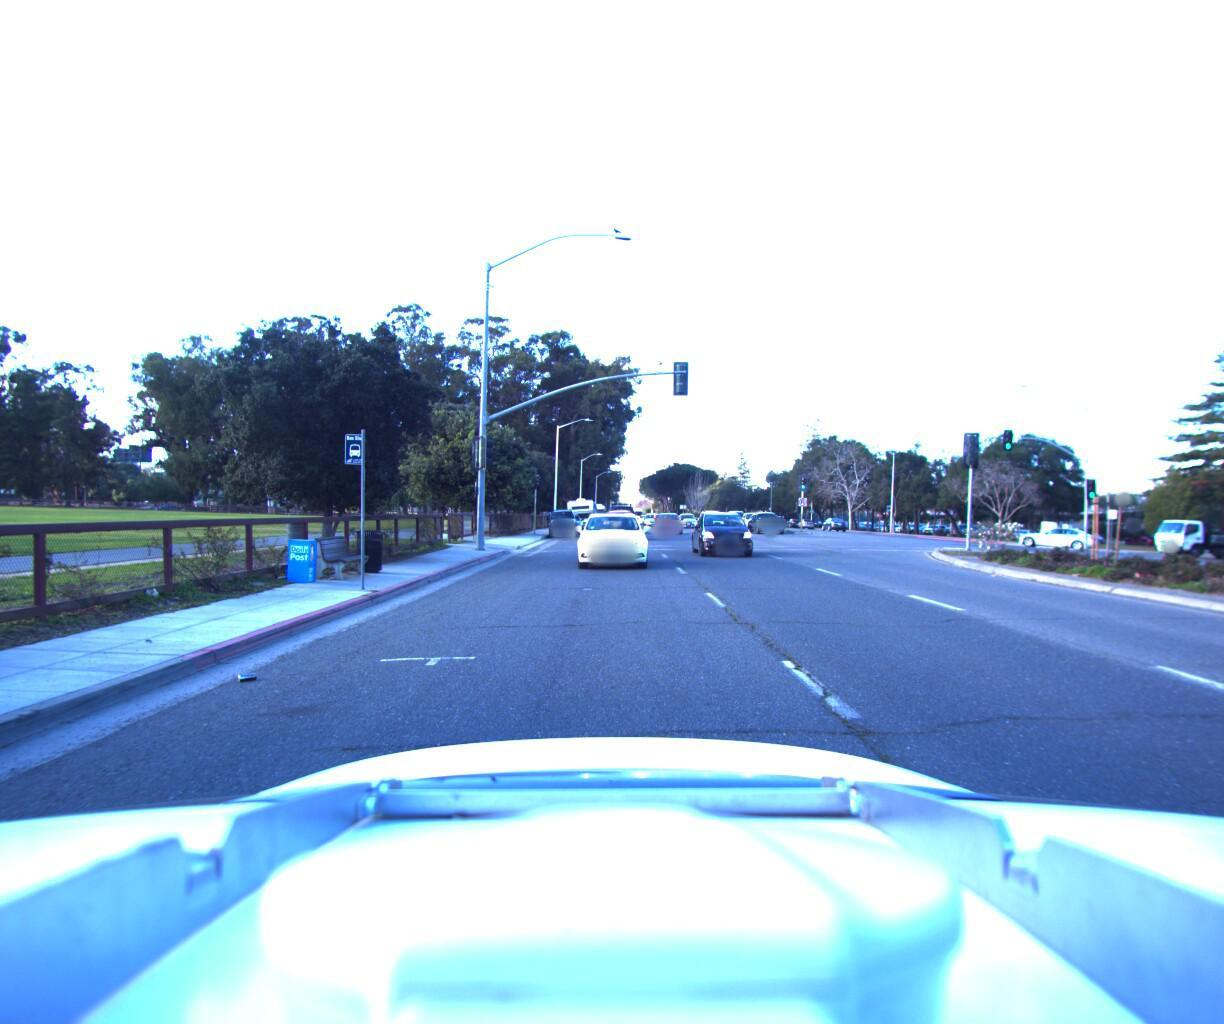car: (574, 506, 651, 569), (690, 506, 762, 558), (1011, 521, 1102, 551), (596, 504, 633, 537), (749, 507, 785, 534), (697, 506, 729, 532), (547, 508, 577, 533), (656, 507, 687, 531), (640, 508, 658, 524)
other_vehicle: (563, 490, 595, 529)
truck: (1148, 516, 1224, 558)
